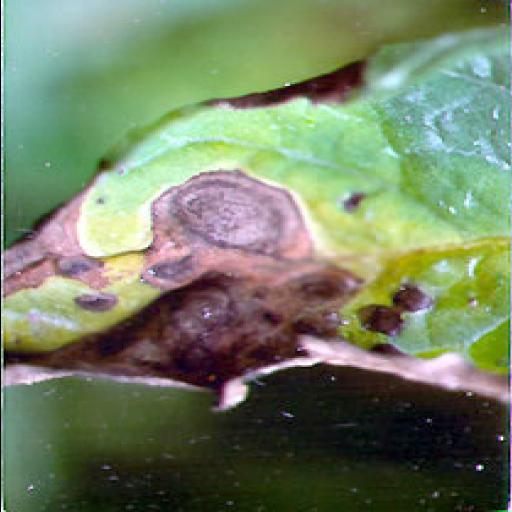disease_tomato: (3, 24, 507, 412)
